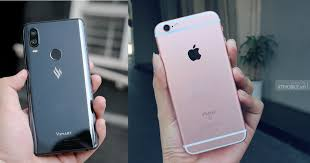iphone: (155, 10, 249, 155)
vsmart: (21, 15, 98, 155)
